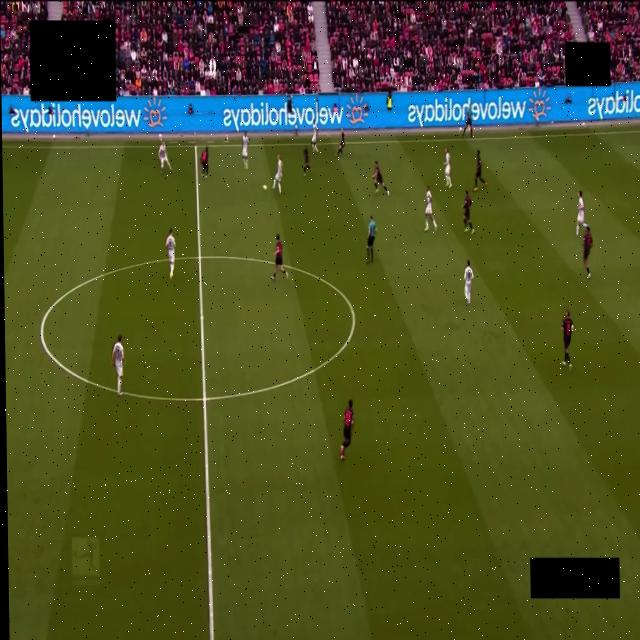ball: (263, 184, 266, 190)
player: (111, 335, 124, 396), (340, 400, 353, 460), (271, 234, 287, 280), (561, 311, 573, 370), (372, 161, 388, 196), (424, 186, 436, 231), (583, 226, 593, 279), (473, 151, 486, 191), (165, 229, 175, 279), (575, 191, 586, 235), (158, 142, 172, 174), (463, 260, 473, 304), (463, 191, 473, 234), (272, 155, 282, 194), (444, 148, 453, 188), (200, 147, 208, 178), (242, 132, 248, 169), (336, 129, 344, 156), (303, 148, 310, 176), (311, 122, 317, 152)
referee: (366, 216, 375, 263), (462, 104, 471, 136)
